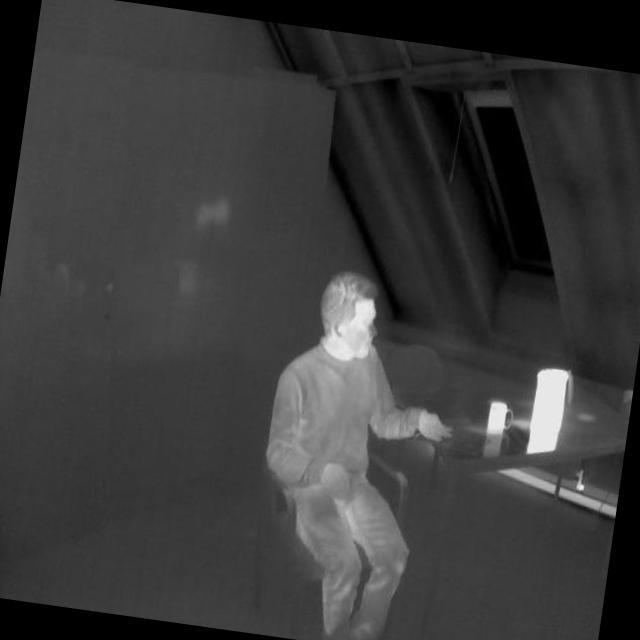person: (237, 255, 464, 640)
